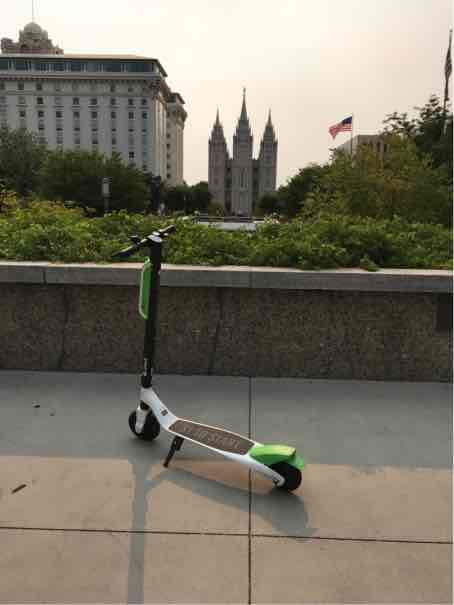scooter: (100, 215, 311, 494)
